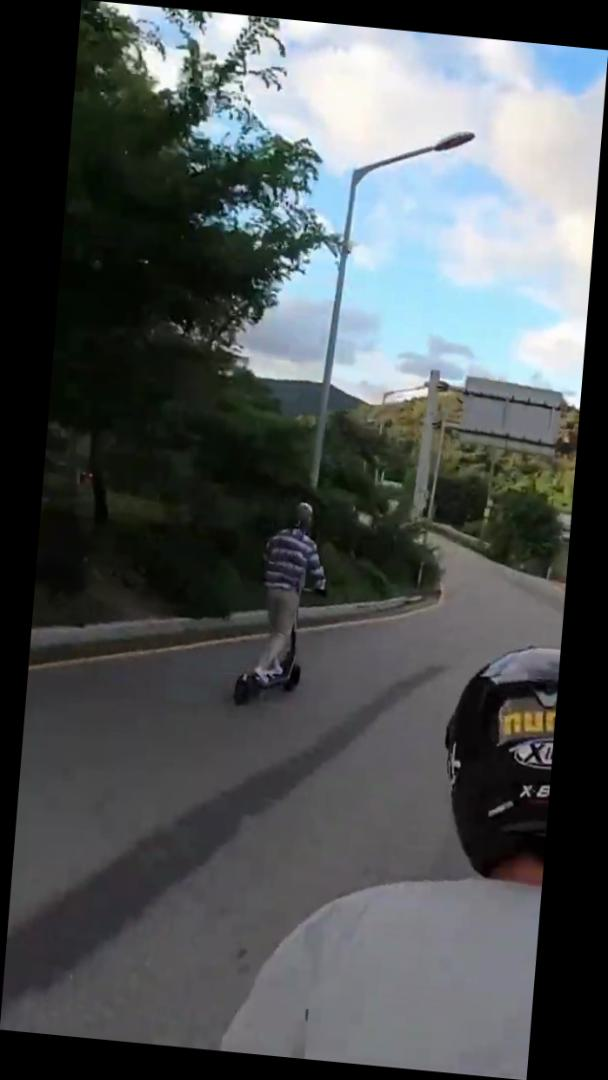helmet: (228, 493, 339, 719)
